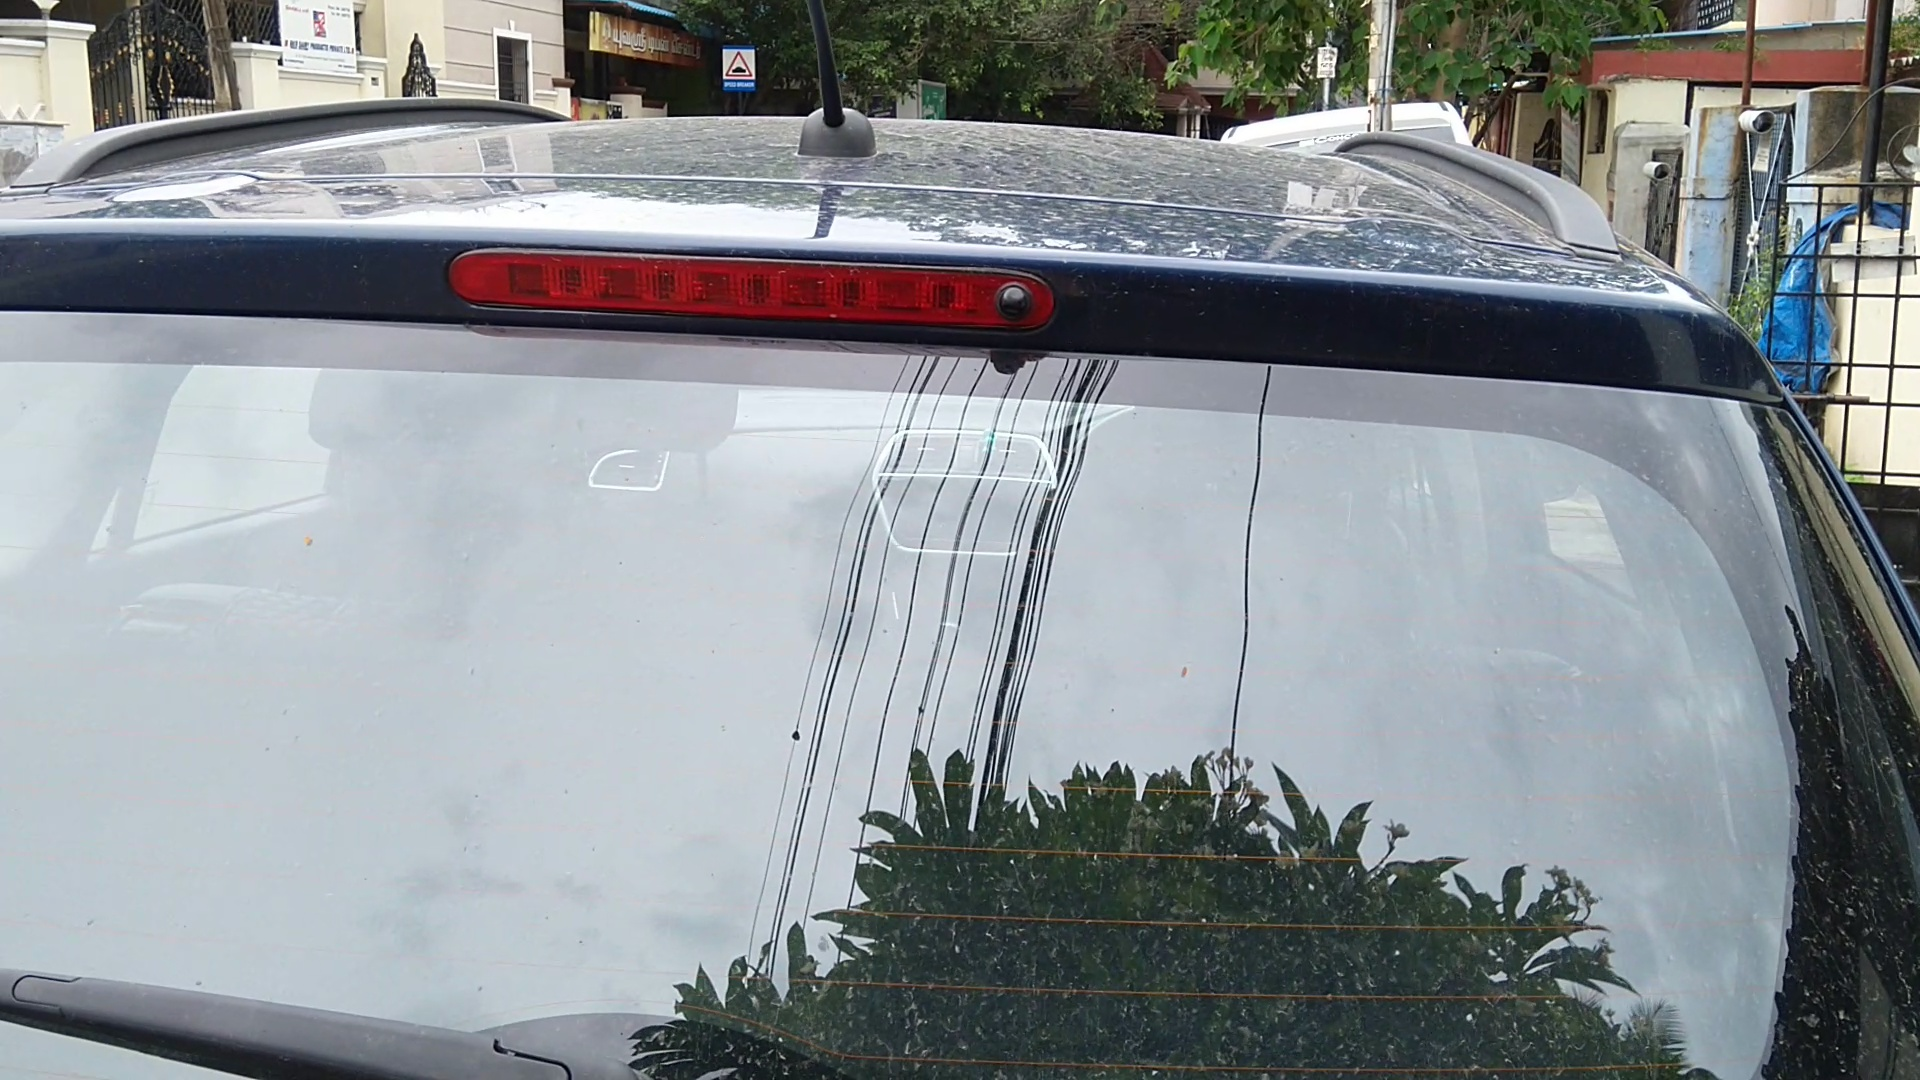rear_camera: (982, 269, 1047, 338)
